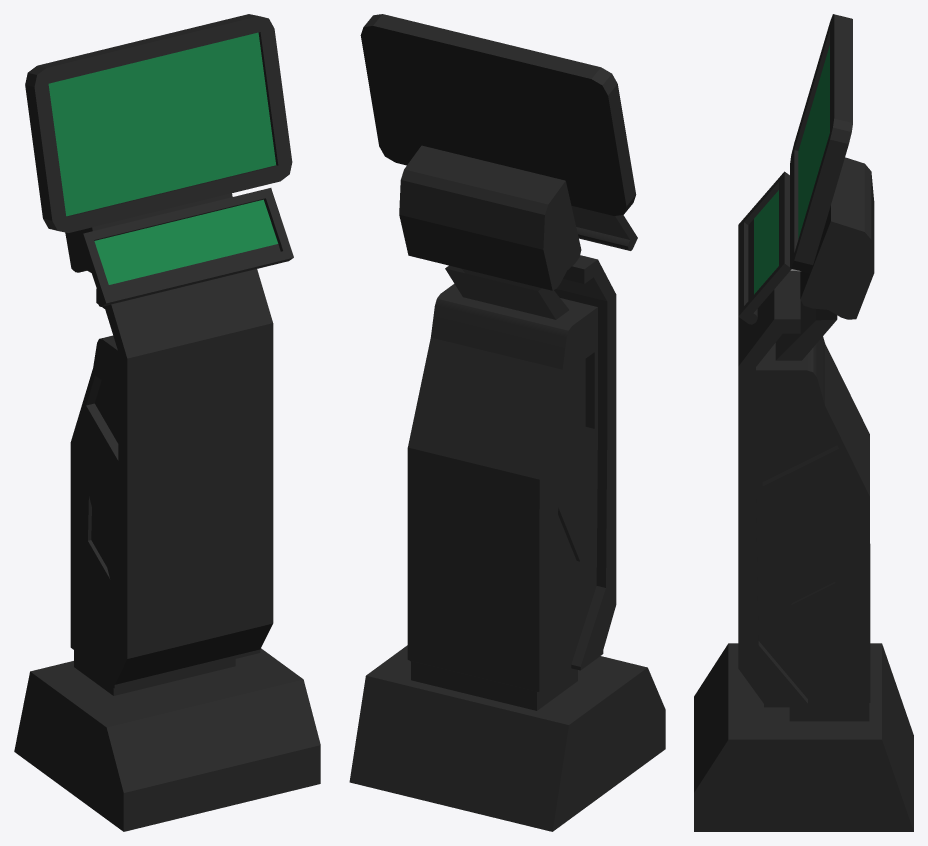
The model's file is Computer Station.fbx.
3 views of the same model, side by side, from view 1: azimuth 30°, elevation 25°; view 2: azimuth 150°, elevation 25°; view 3: azimuth 270°, elevation 25° (orthographic). The views are drawn at different scales.
Parts seen in each view (by area): view 1: Computer_Statation_Base, Computer_Screen_1, Computer_Screen_2; view 2: Computer_Statation_Base; view 3: Computer_Statation_Base, Computer_Screen_1, Computer_Screen_2.
Boxes of the visible parts, left/top/right/bottom form: Computer_Statation_Base: left=14, top=14, right=320, bottom=831; Computer_Screen_1: left=48, top=32, right=275, bottom=216; Computer_Screen_2: left=94, top=199, right=278, bottom=284; Computer_Statation_Base: left=349, top=14, right=665, bottom=831; Computer_Statation_Base: left=694, top=14, right=913, bottom=831; Computer_Screen_1: left=798, top=45, right=829, bottom=238; Computer_Screen_2: left=754, top=190, right=778, bottom=294.
Size of the model in its own units: 81.03 by 231 by 64.07.
